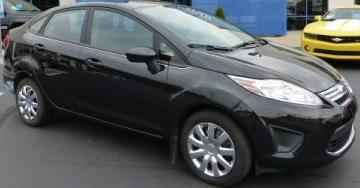front_view: (240, 61, 347, 163)
headlight: (234, 70, 329, 116)
side_glass: (33, 4, 203, 83)
